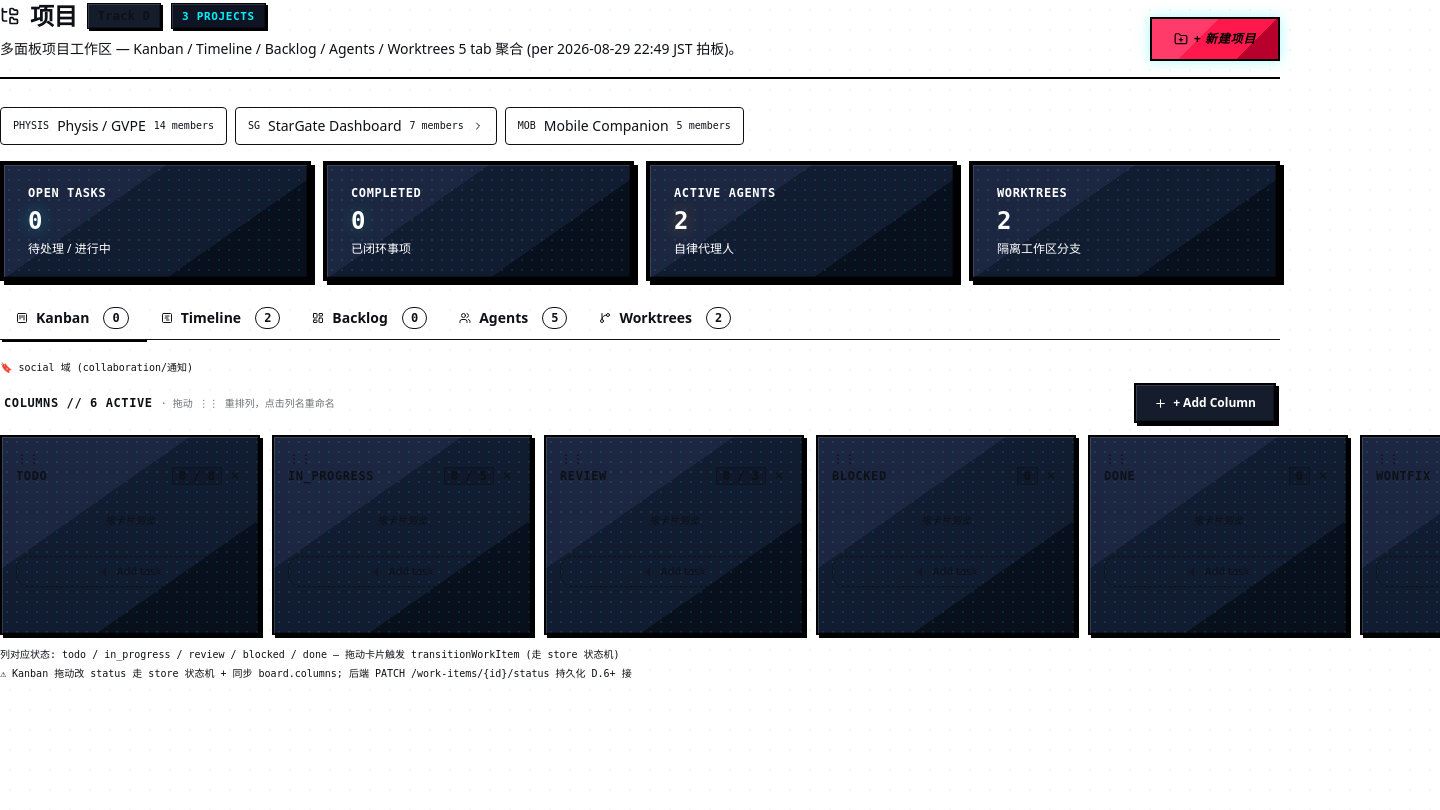
Test: ProjectsPage › Worktrees tab shows a working canvas link for the selected project (DRIFT-α-009)
Click the button with test id "project-switcher-prj-physis" at (114, 126), box 0,107 -> 227,145
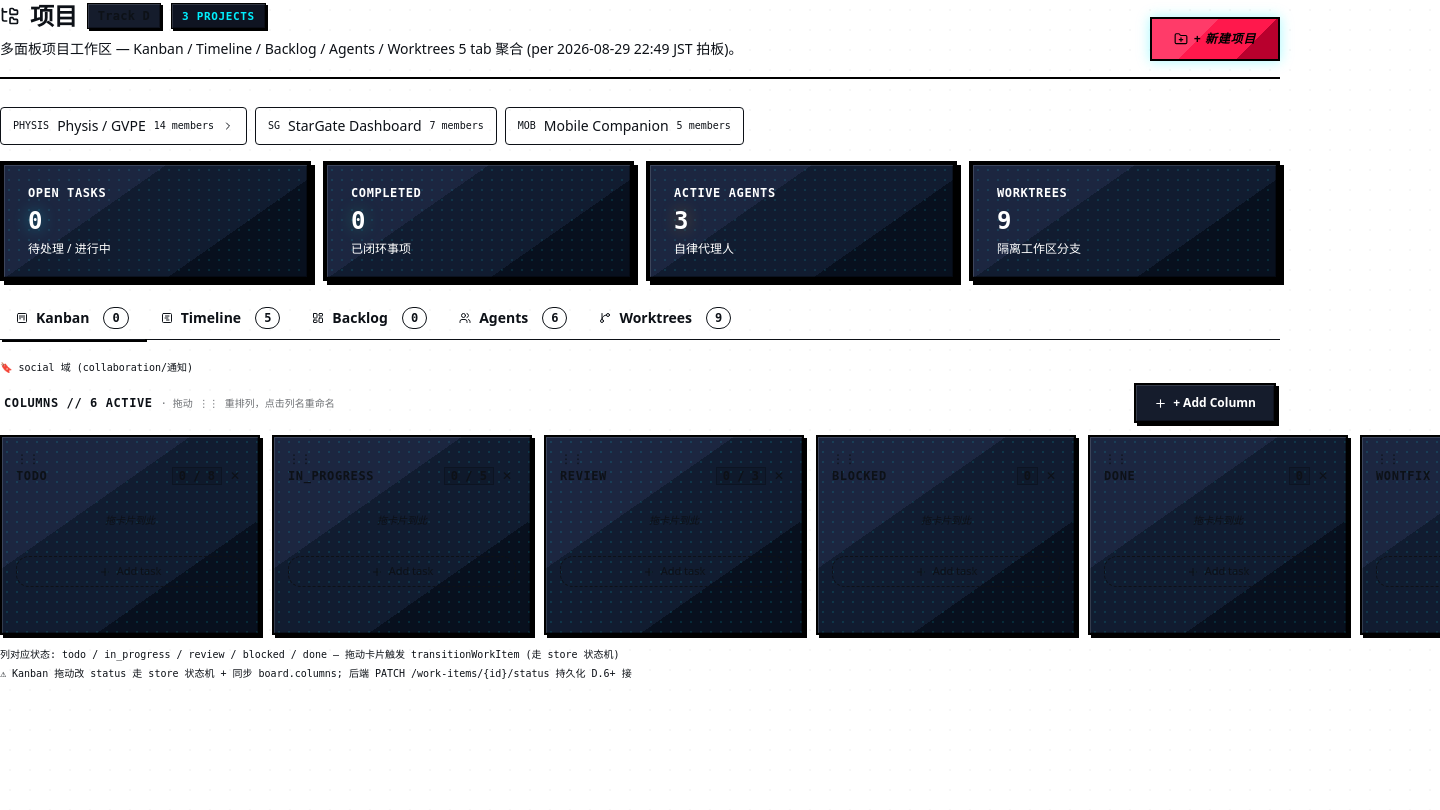
Click the tab "Worktrees 9" at (665, 318), box 583,297 -> 747,339
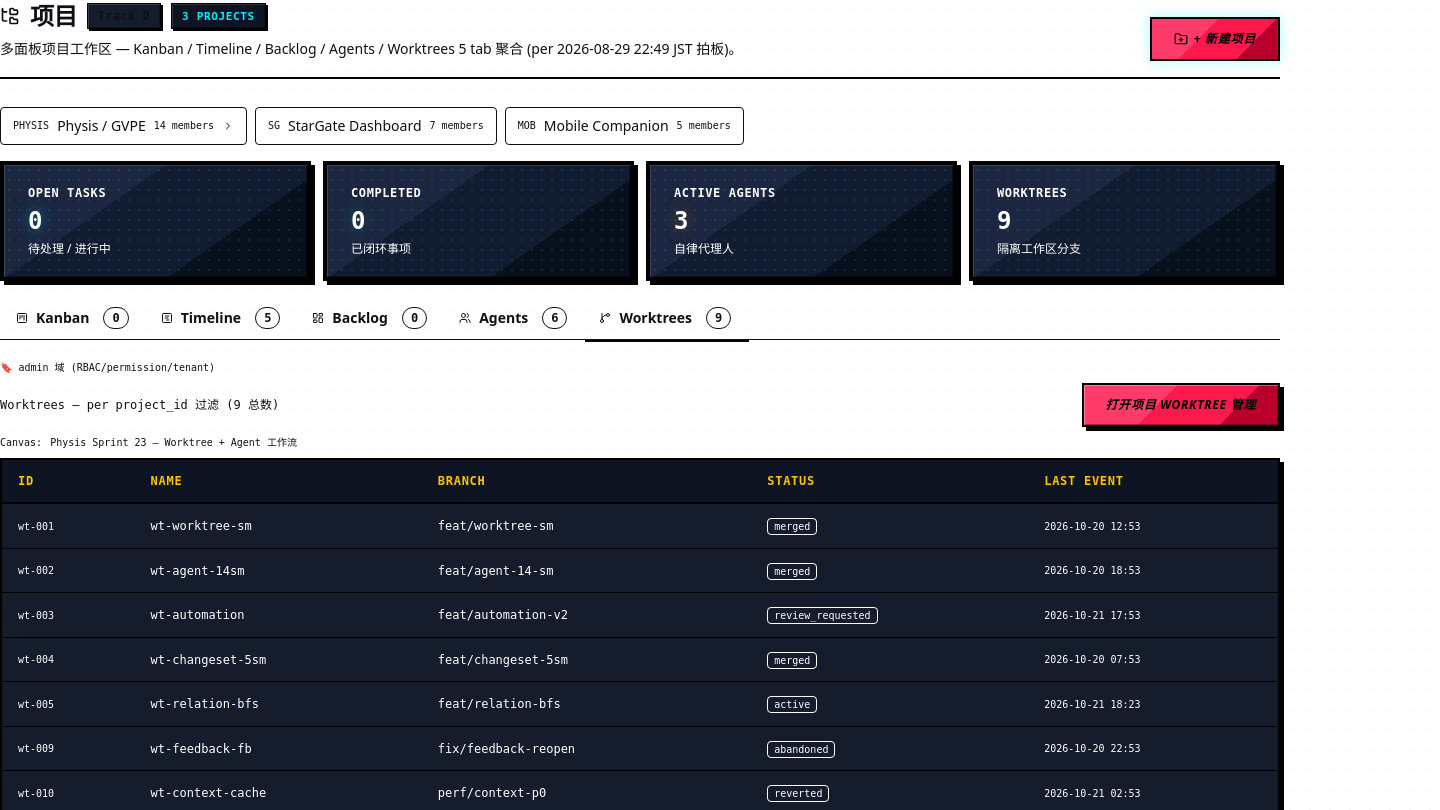
Now the element with test id "project-canvas-links" is shown, box 0,437 -> 297,448
